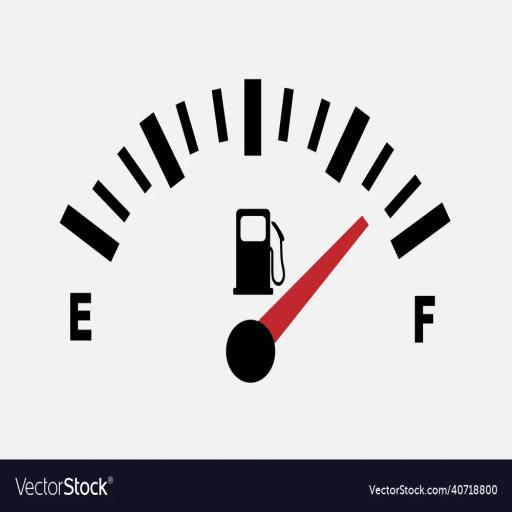empty: (62, 290, 99, 342)
fuel_icon: (223, 204, 289, 298)
full: (409, 289, 443, 347)
guage_area: (57, 71, 456, 419)
needle_center: (220, 315, 280, 387)
needle_tip: (355, 212, 372, 242)
